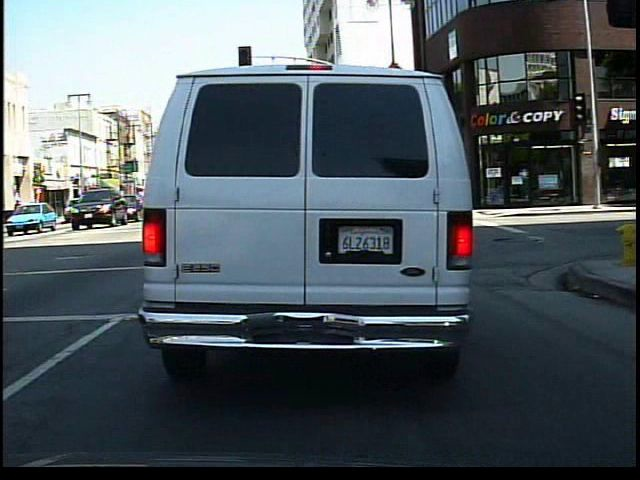person: (9, 196, 26, 228)
